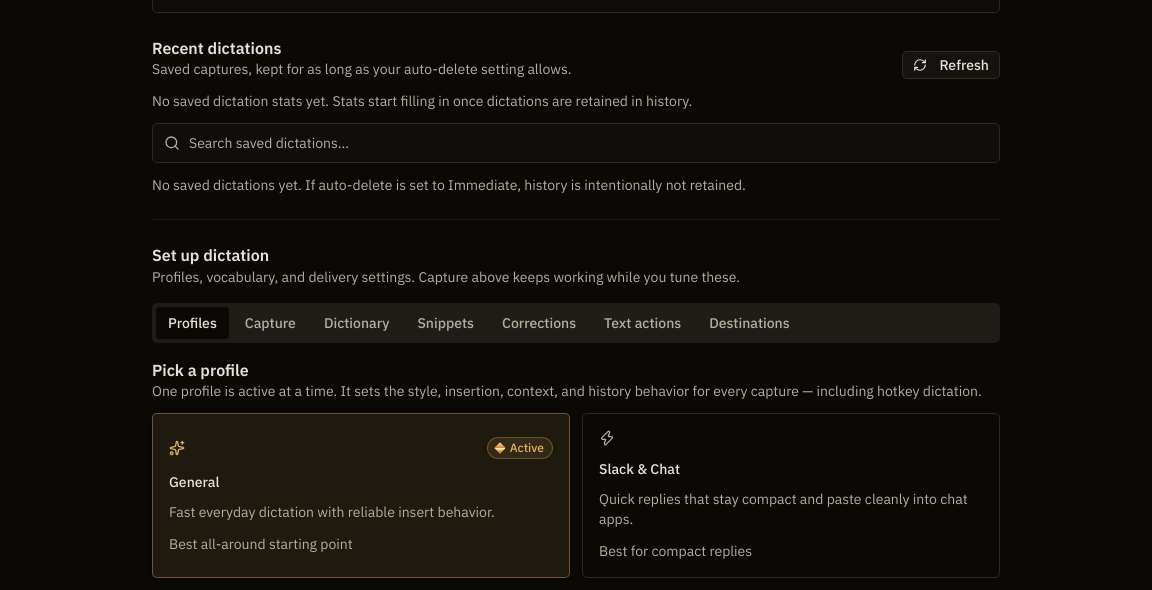
DictationView modes › offers keep warm as the on/off it now actually is
(page scrolled)
Press the mouse on the tab "Capture" at [270, 323], box [233,307,308,339]
(page scrolled)
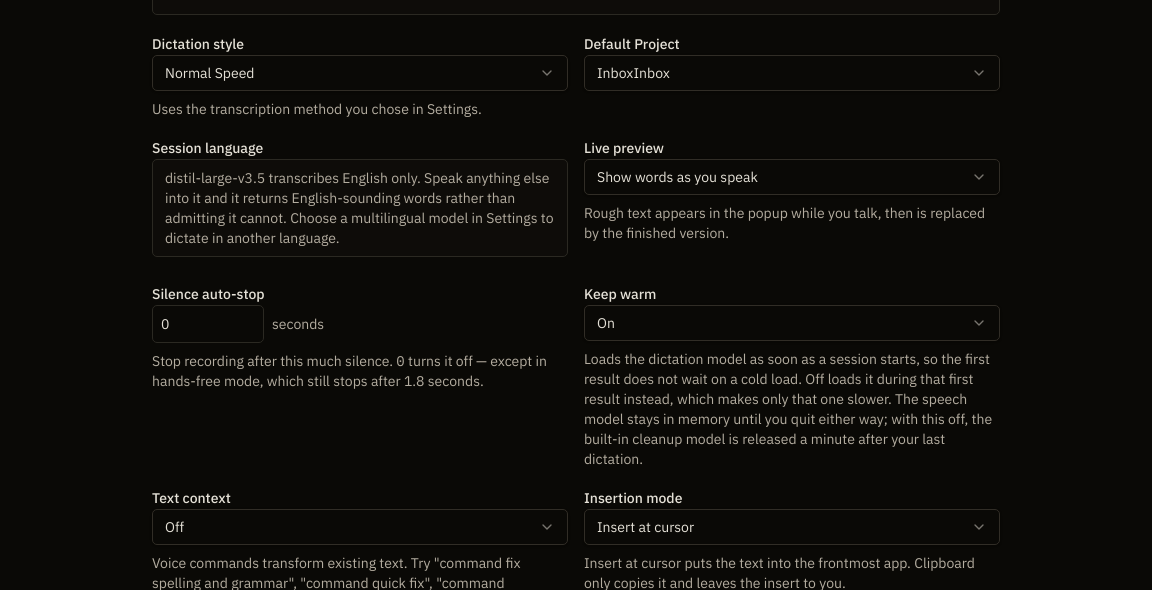
Click the dropdown named "Keep warm".
click(606, 323)  # box [584,305,1000,341]
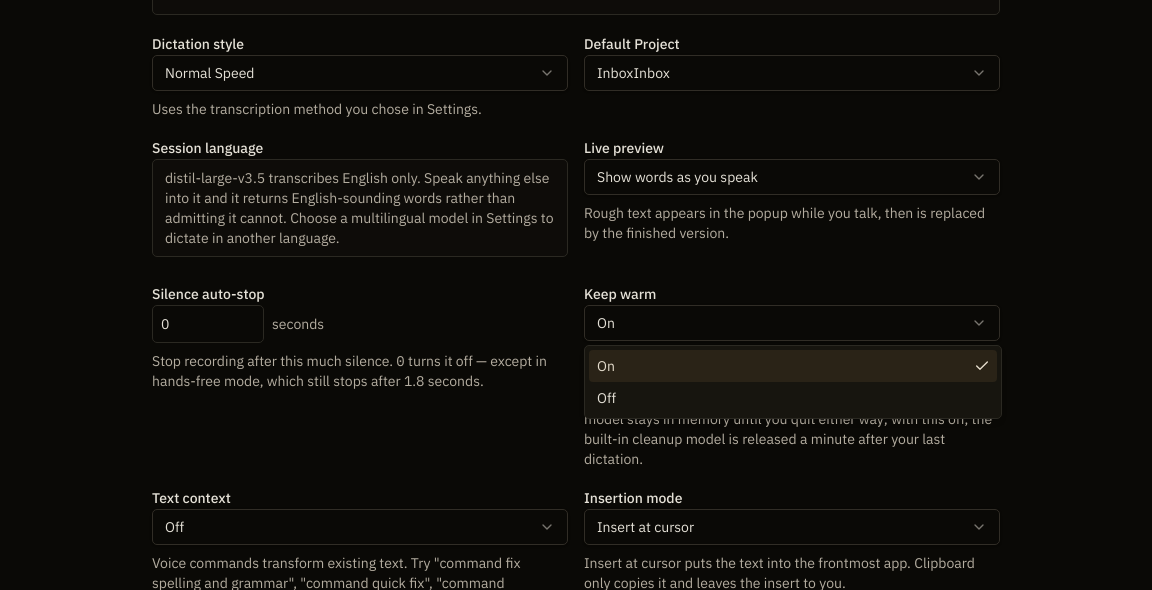
Expected: the options read "On", "Off", in this order, [589,350,997,382]; [597,389,616,407]
